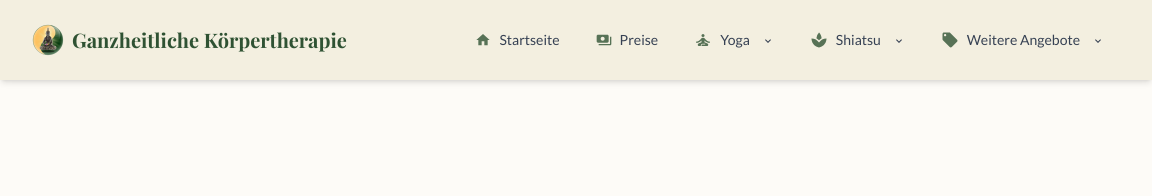
Test case: Navbar › dropdown opens on hover and shows sub-items
Hover over the button "Yoga": (734, 40) [678, 22, 790, 58]
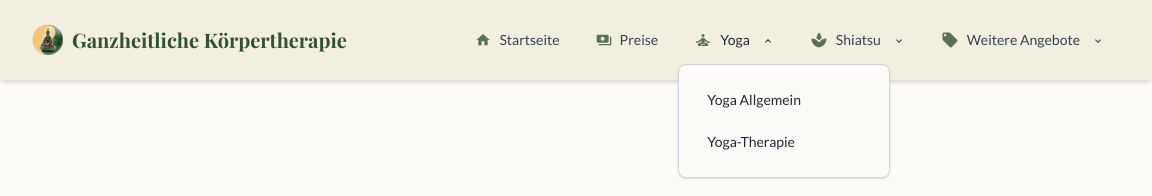
Now the link "Yoga Allgemein" is shown, box [707, 91, 801, 108]
